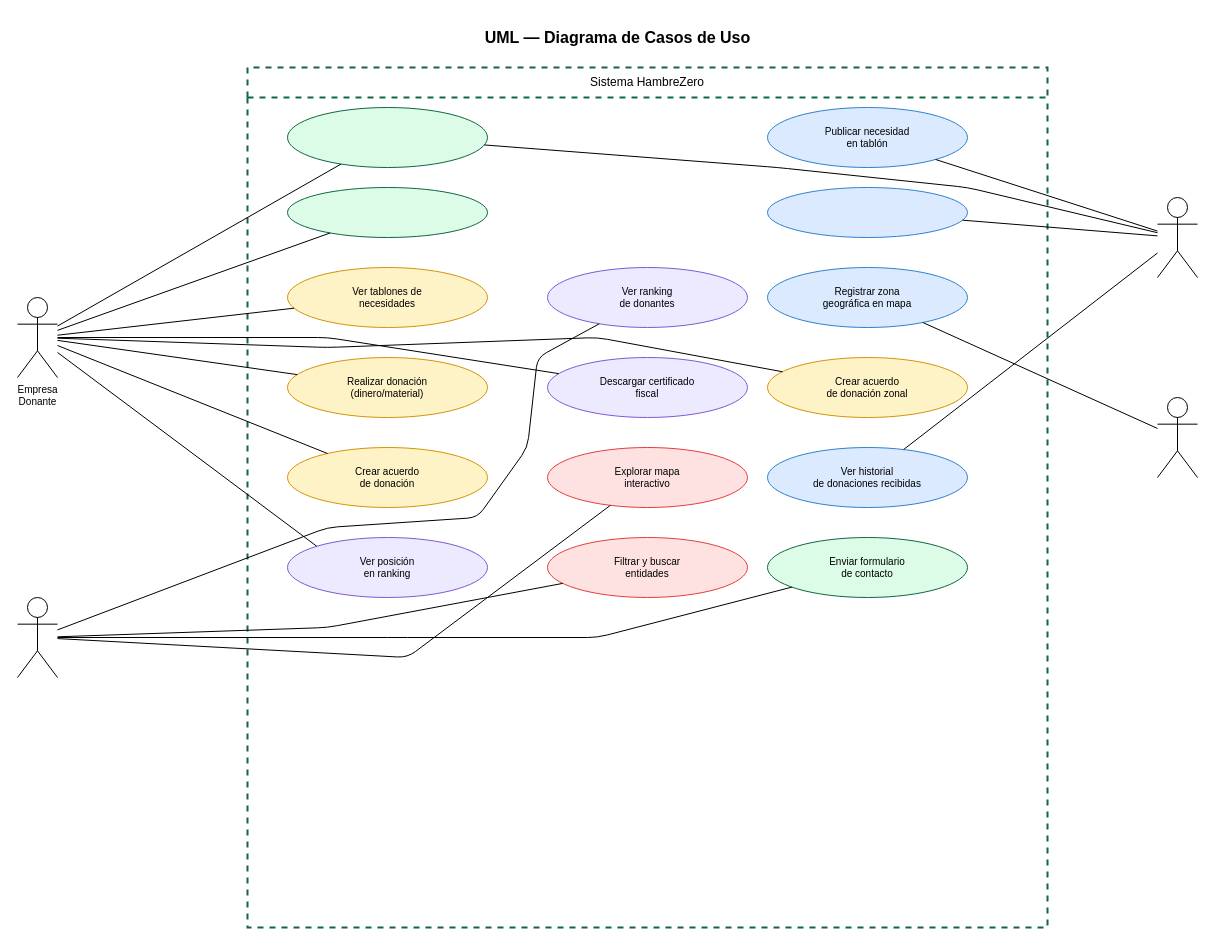
The diagram is 1228 pixels wide and 945 high, and some of its shapes have lost their labels. Each missing label, with the centre of its shape:
"Editar perfil de entidad" belongs at [867,212].
"Entidad Necesitada" belongs at [1177,237].
"Iniciar sesión" belongs at [387,212].
"Registrar cuenta (Entidad/Donante/Zona)" belongs at [387,137].
"Representante Zona" belongs at [1177,437].
"Visitante Público" belongs at [37,637].
